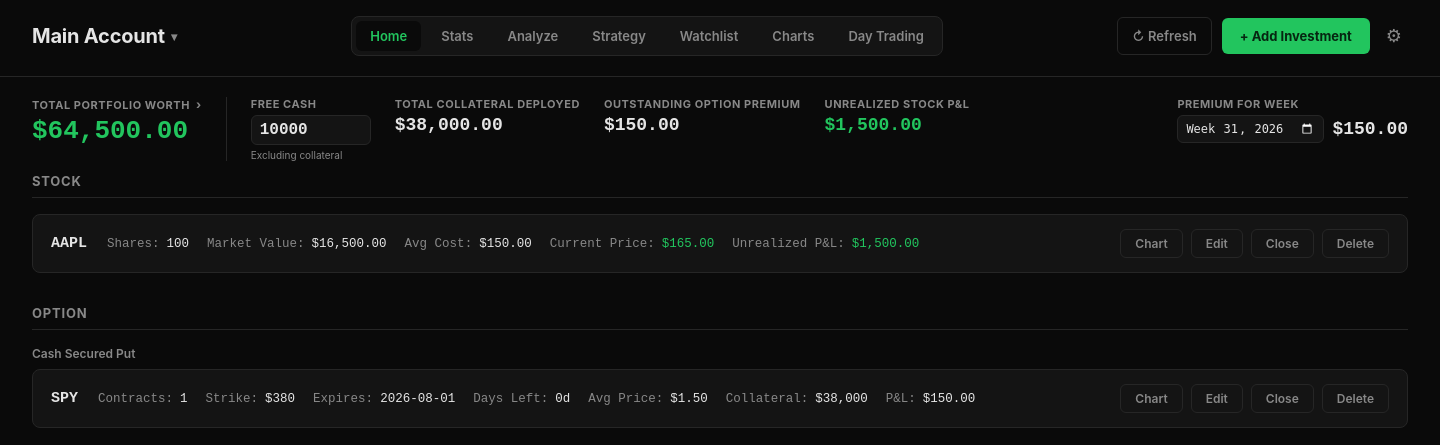
Test case: Total Portfolio Worth › expands into an allocation breakdown when the worth figure is clicked
Click the button "Total Portfolio Worth › $64,500.00".
click(117, 122)  # box [32,97,202,146]
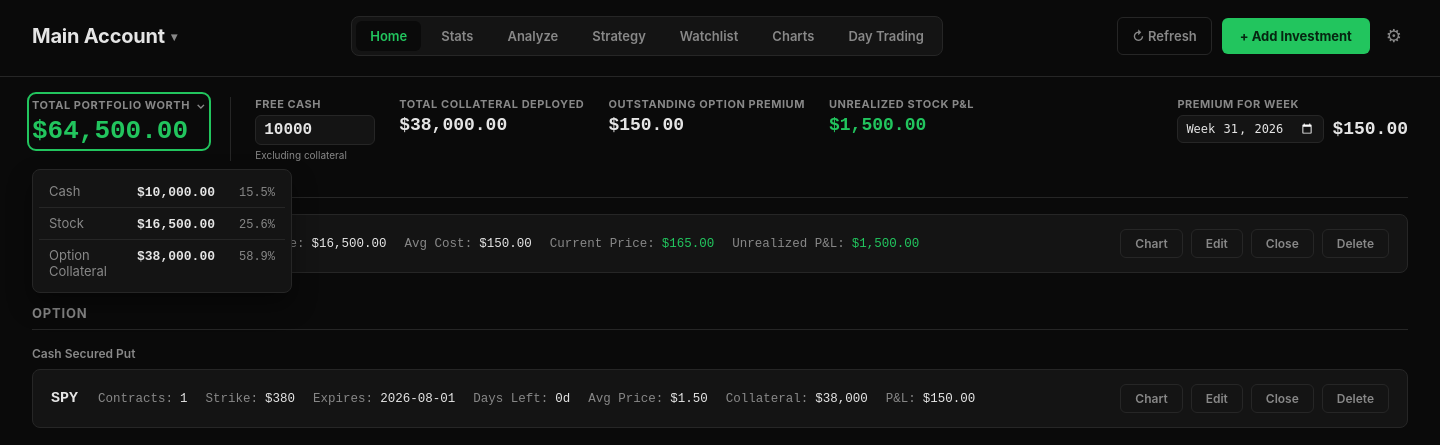
Expected: the list with test id "worth-breakdown" shows "Cash", [49,183,80,199]
Expected: the list with test id "worth-breakdown" shows "$10,000.00", [137,185,215,200]
Expected: the list with test id "worth-breakdown" shows "Stock", [49,215,84,231]
